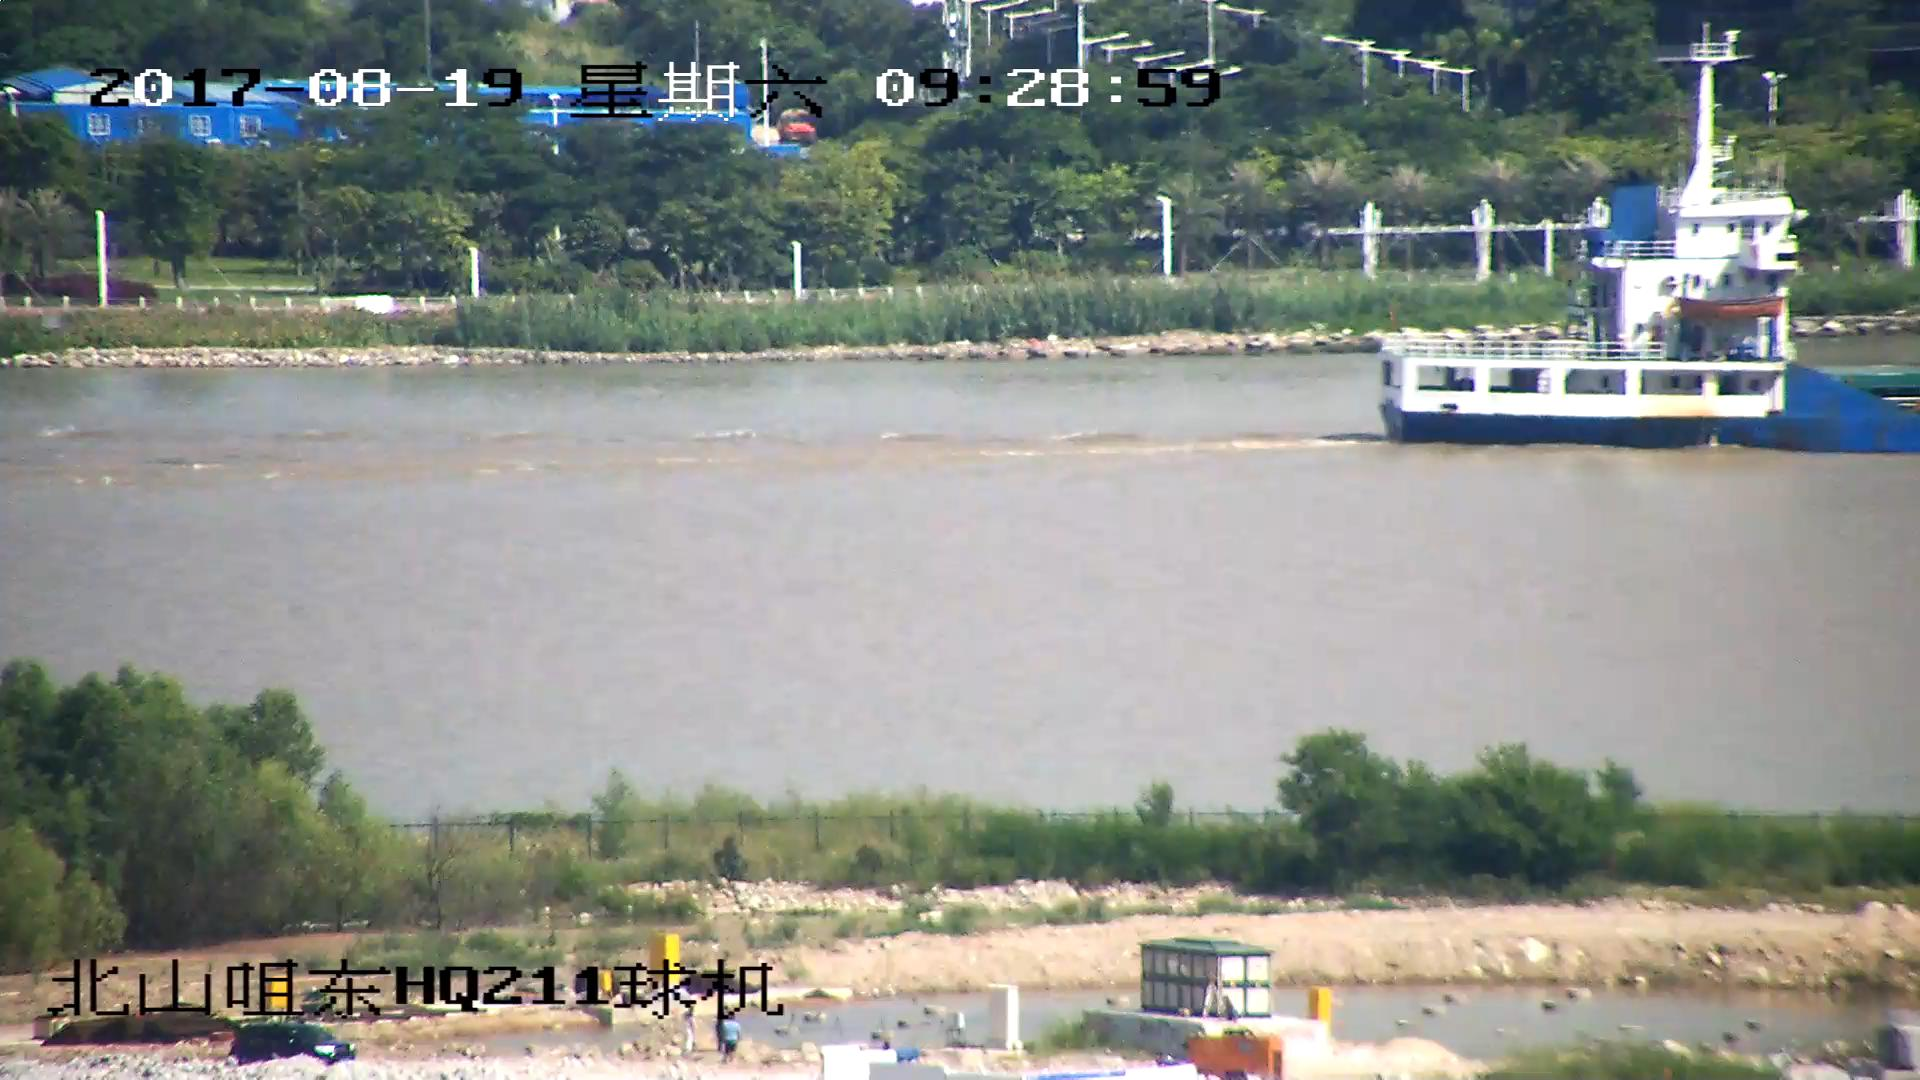general cargo ship: (1374, 29, 1920, 453)
